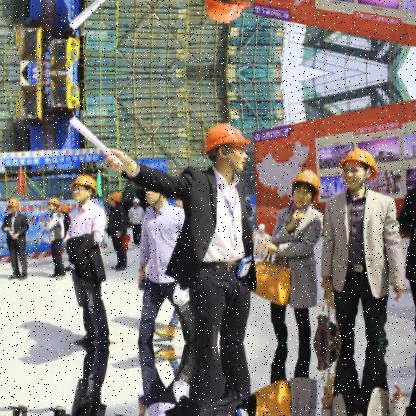Helmet: (204, 120, 254, 168), (341, 146, 387, 194), (206, 0, 254, 34), (282, 170, 318, 212), (72, 171, 96, 200), (42, 192, 63, 216), (6, 196, 22, 220), (110, 184, 126, 204), (56, 202, 70, 220), (130, 194, 142, 210)
